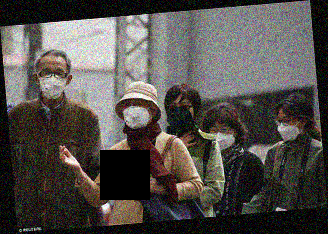with_mask: (36, 65, 69, 100), (123, 99, 153, 129), (208, 121, 236, 152), (165, 100, 196, 128), (275, 113, 304, 141)
